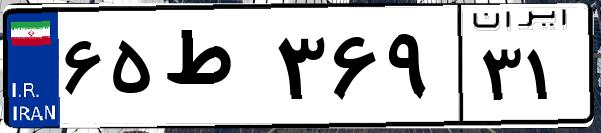1: (525, 38, 570, 115)
3: (270, 28, 330, 110), (475, 38, 525, 113)
5: (110, 28, 158, 98)
6: (330, 28, 385, 110), (57, 26, 110, 100)
9: (385, 28, 445, 110)
ط: (158, 20, 270, 120)
